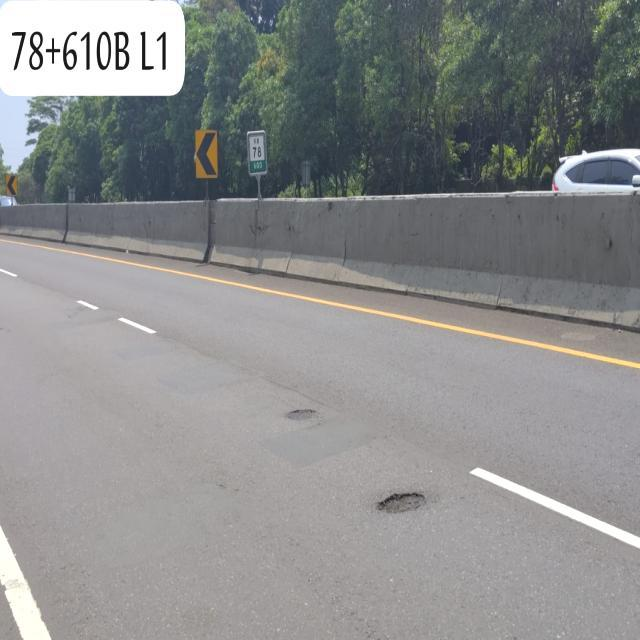Buraco: (374, 490, 431, 517), (284, 407, 320, 423)
